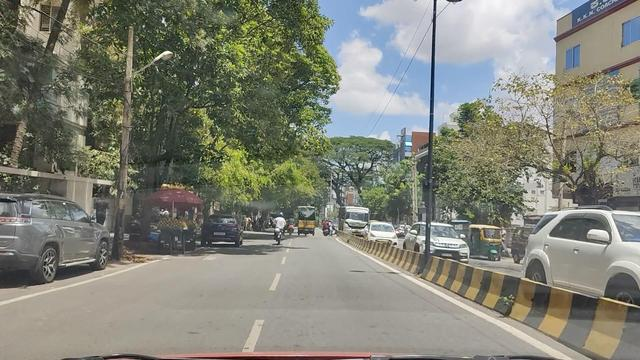LMV: (202, 213, 244, 241), (271, 210, 288, 244)
